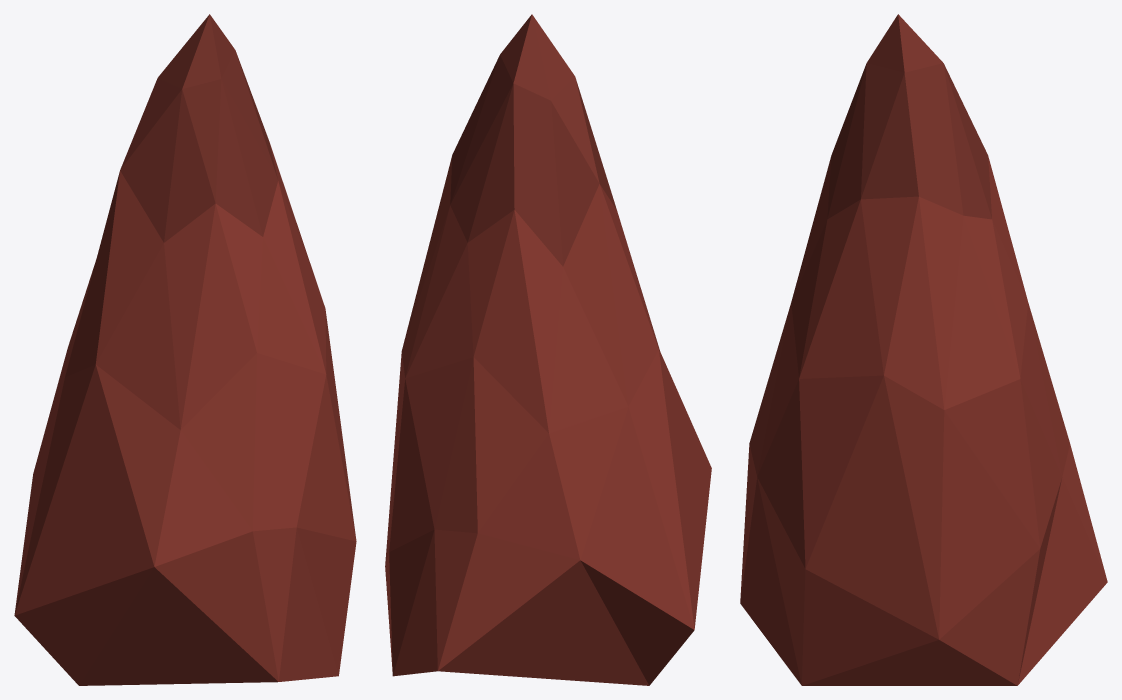
File: Tree_6_Red.fbx
3 renders of one model, left to right at view 1: azimuth 30°, elevation 25°; view 2: azimuth 150°, elevation 25°; view 3: azimuth 270°, elevation 25°, orthographic.
Parts seen in each view (by area): view 1: Tree_6_Red; view 2: Tree_6_Red; view 3: Tree_6_Red.
Boxes of the visible parts, bbox=[...] form: Tree_6_Red: bbox=[14, 14, 356, 685]; Tree_6_Red: bbox=[385, 14, 711, 685]; Tree_6_Red: bbox=[740, 14, 1107, 685].
Bounding box in the file's own units: 394 × 793 × 415.
